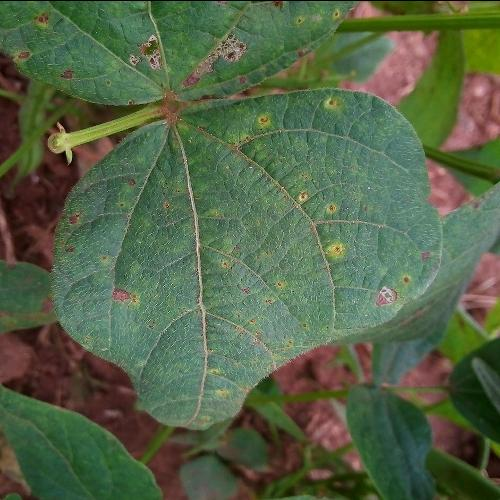hawar: (110, 22, 254, 88), (278, 175, 364, 283), (2, 5, 90, 88), (373, 241, 440, 320), (76, 274, 163, 324), (242, 94, 350, 134)
